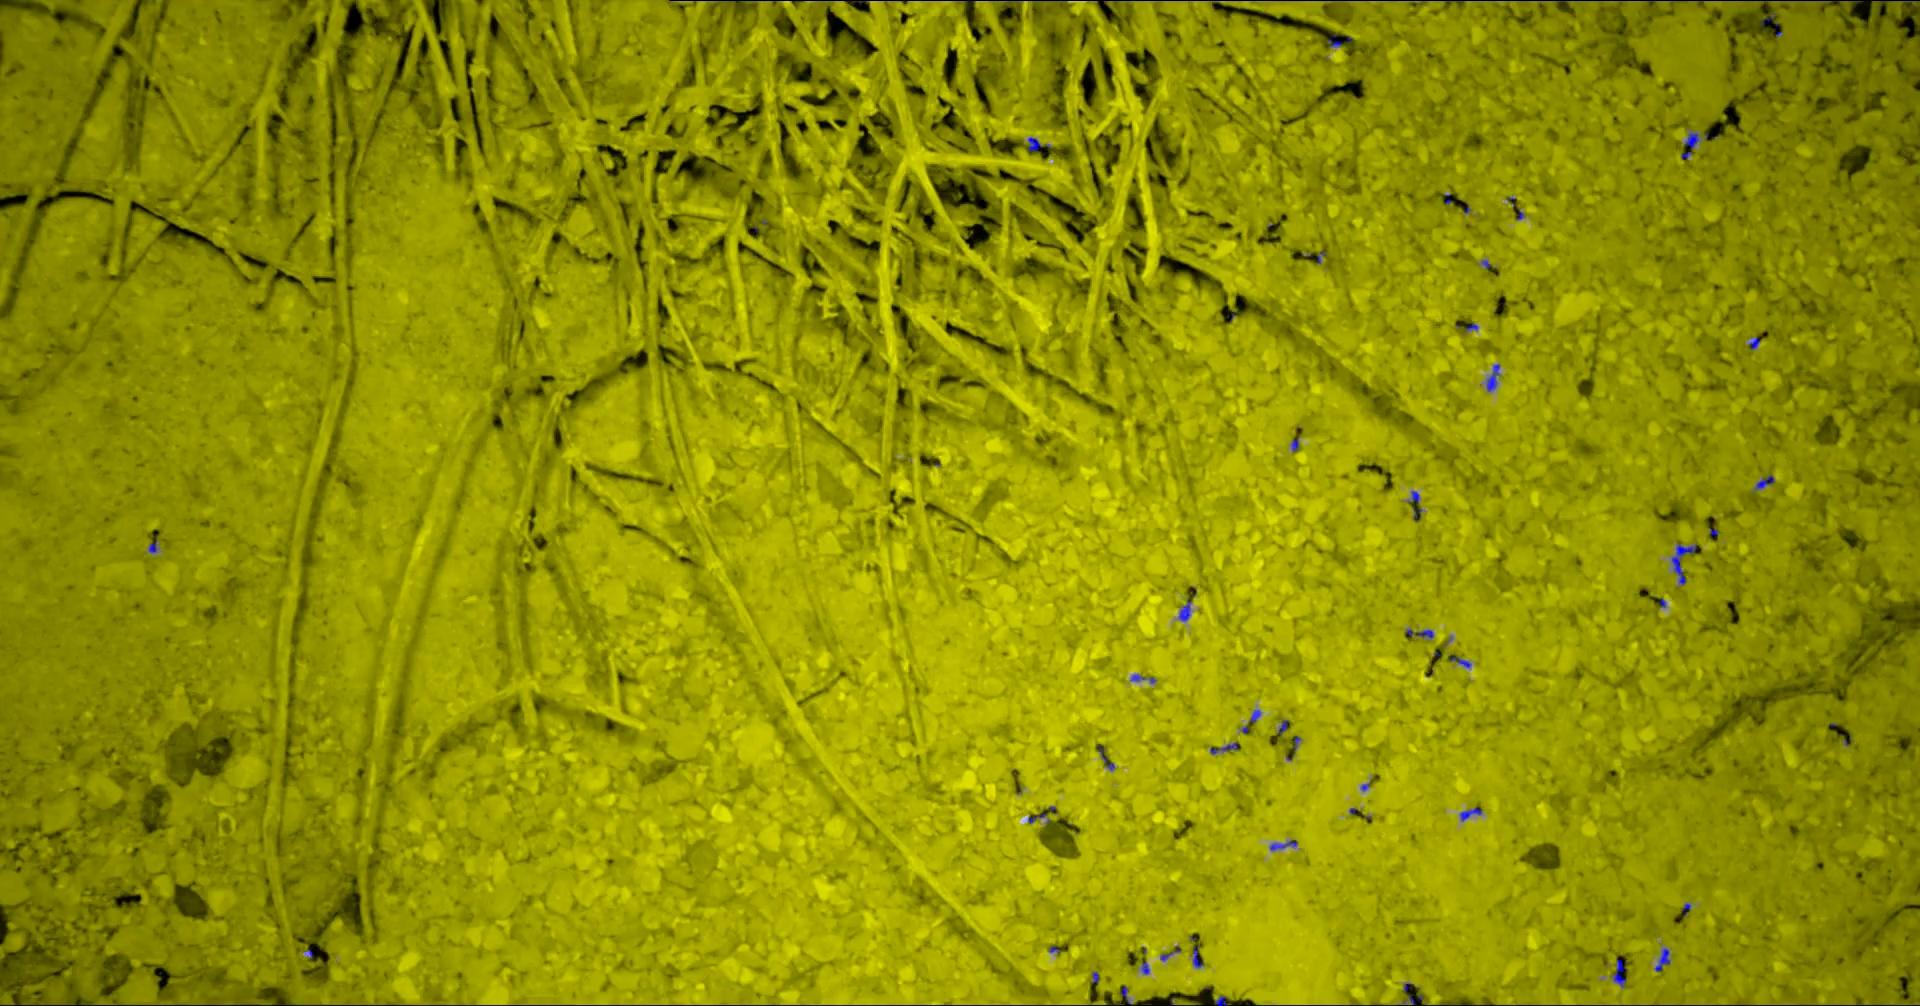ant: (1671, 542, 1697, 584), (1680, 131, 1699, 159), (1095, 744, 1114, 770), (1209, 742, 1238, 754), (1613, 958, 1625, 987), (1486, 363, 1498, 391), (1655, 948, 1670, 970), (1027, 136, 1051, 150), (1754, 474, 1774, 489), (1459, 807, 1481, 821), (1404, 627, 1432, 638), (1269, 840, 1297, 850), (1178, 600, 1190, 621), (1449, 655, 1470, 667), (1129, 674, 1156, 683), (1192, 945, 1203, 967), (1327, 33, 1341, 46)
